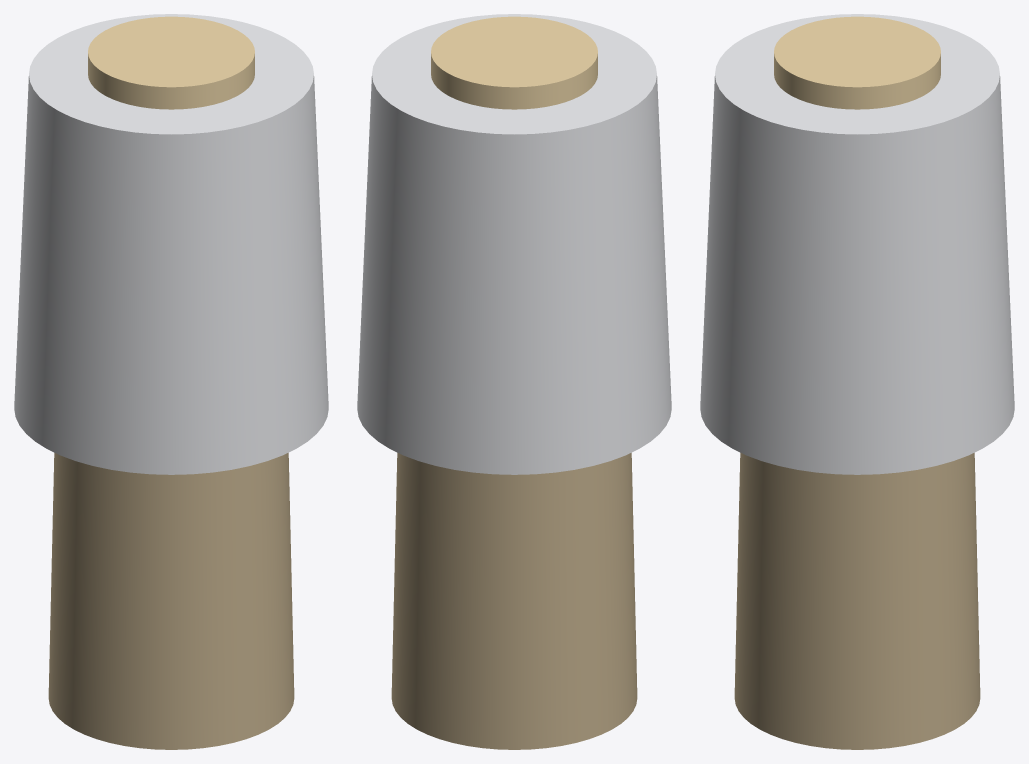
File: stopper.glb
3 views of the same model, side by side, from view 1: azimuth 30°, elevation 25°; view 2: azimuth 150°, elevation 25°; view 3: azimuth 270°, elevation 25° (orthographic).
Parts seen in each view (by area): view 1: Cap, Cork, Medallion; view 2: Cap, Cork, Medallion; view 3: Cap, Cork, Medallion.
Part boxes in pixels (left/top/right/bottom): Cap: left=14, top=14, right=328, bottom=474; Cork: left=48, top=453, right=294, bottom=749; Medallion: left=88, top=16, right=254, bottom=109; Cap: left=357, top=14, right=671, bottom=474; Cork: left=391, top=453, right=637, bottom=749; Medallion: left=431, top=16, right=597, bottom=109; Cap: left=700, top=14, right=1014, bottom=474; Cork: left=734, top=453, right=980, bottom=749; Medallion: left=774, top=16, right=940, bottom=109.
Size of the model in its own units: 1.28 by 2.9 by 1.28.
